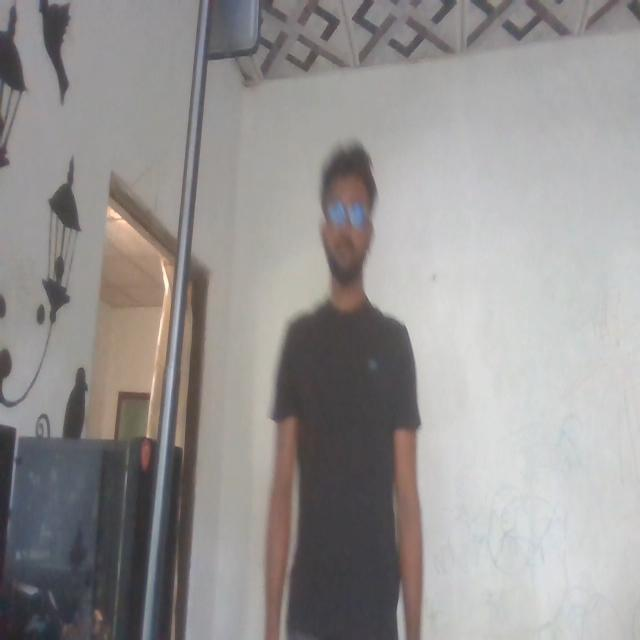Person: (258, 117, 424, 640)
